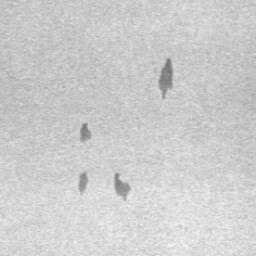Iron scale compression: (158, 54, 173, 100), (113, 173, 131, 202), (79, 123, 91, 147), (78, 172, 88, 197)
